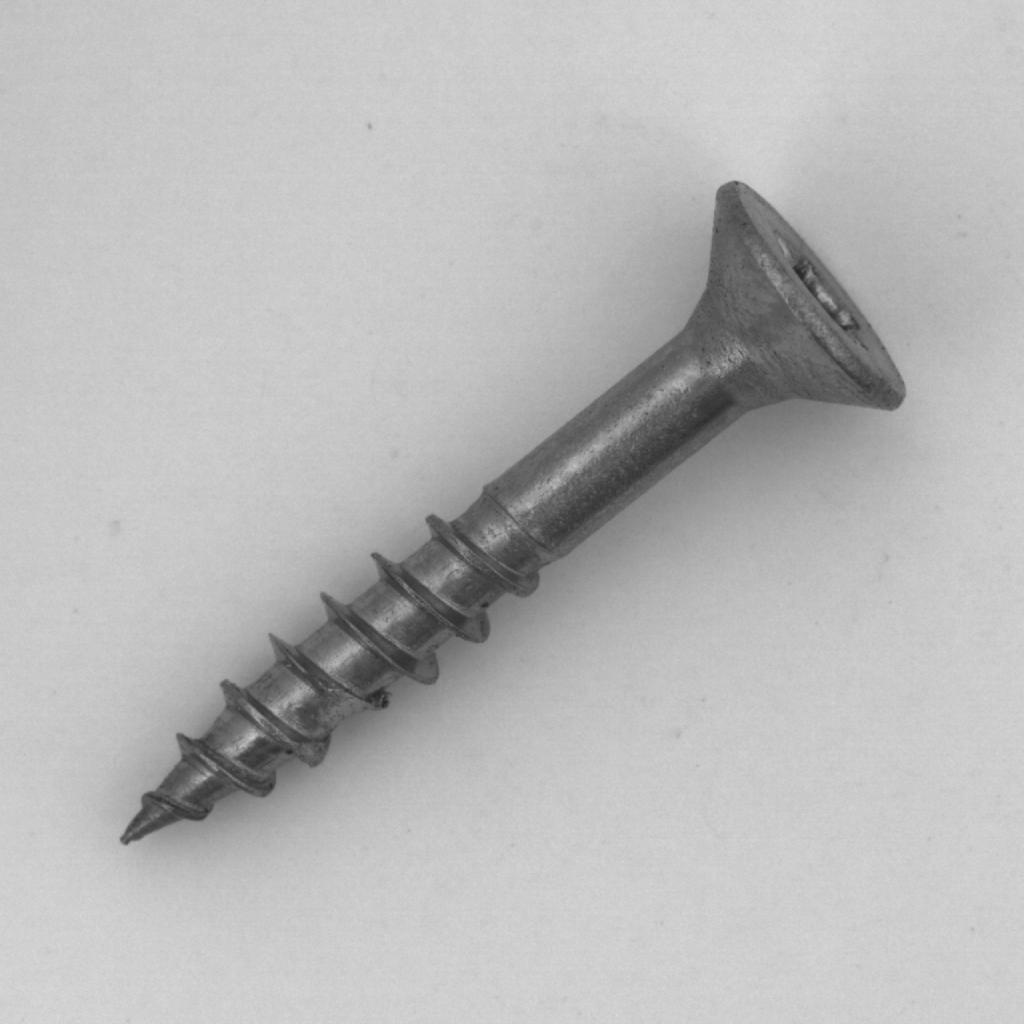thread_top: (343, 39, 720, 992)
